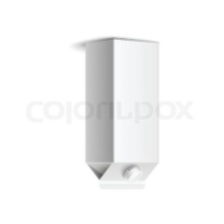carton: (81, 35, 165, 196)
